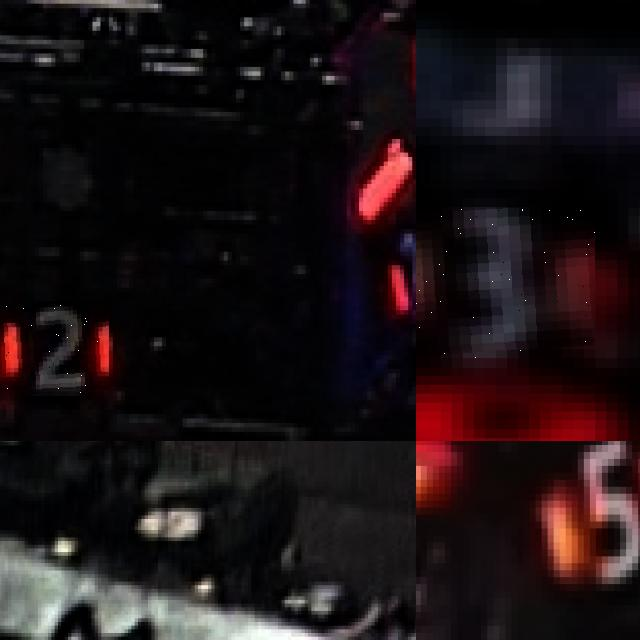R2: (0, 301, 109, 395)
R3: (416, 207, 595, 358)
R5: (547, 441, 640, 591)
